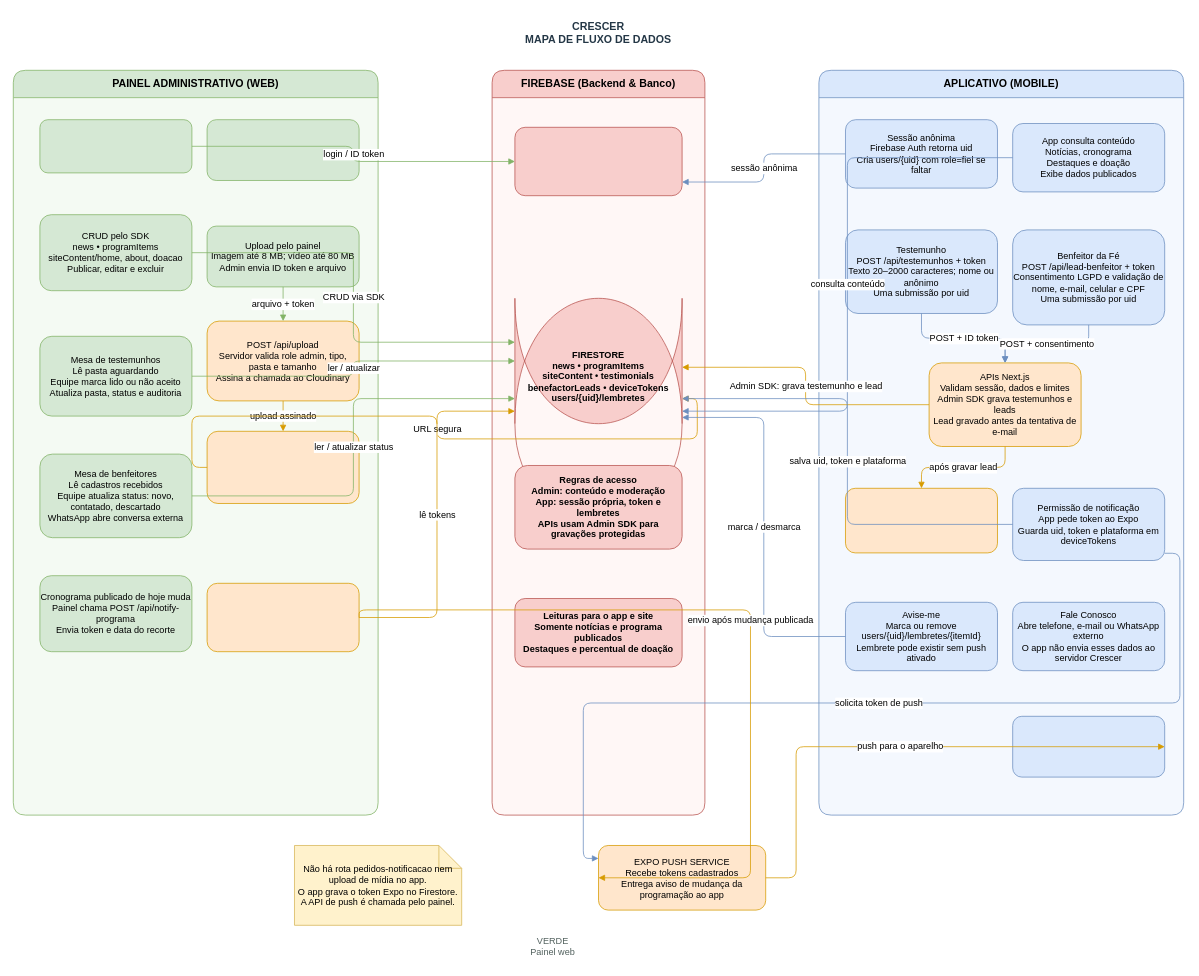
This 1199x976 diagram has some shape labels left out. The shapes that lost their labels are listed below. From the top down, each one's centre as x and y in pixels, then its label:
the point at 115,146: Equipe entra Firebase Auth ID token identifica a conta
the point at 282,149: Painel edita conteúdo Notícias • Cronograma Destaques • Doação
the point at 598,161: Firebase Auth ID token + uid Admin validado com users/{uid}.role=admin
the point at 282,467: CLOUDINARY Guarda mídia URL segura retorna ao painel URL é gravada em news
the point at 921,520: RESEND E-mail à comissão sobre novo lead Falha no envio não apaga o cadastro
the point at 282,617: API valida admin e data Lê deviceTokens Envia lotes de até 100 ao Expo Push
the point at 1088,746: App recebe push Aviso chega pelo serviço Expo Ex.: mudança na programação
